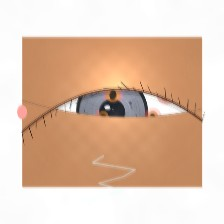foreign_body_visible: (139, 105, 167, 127)
